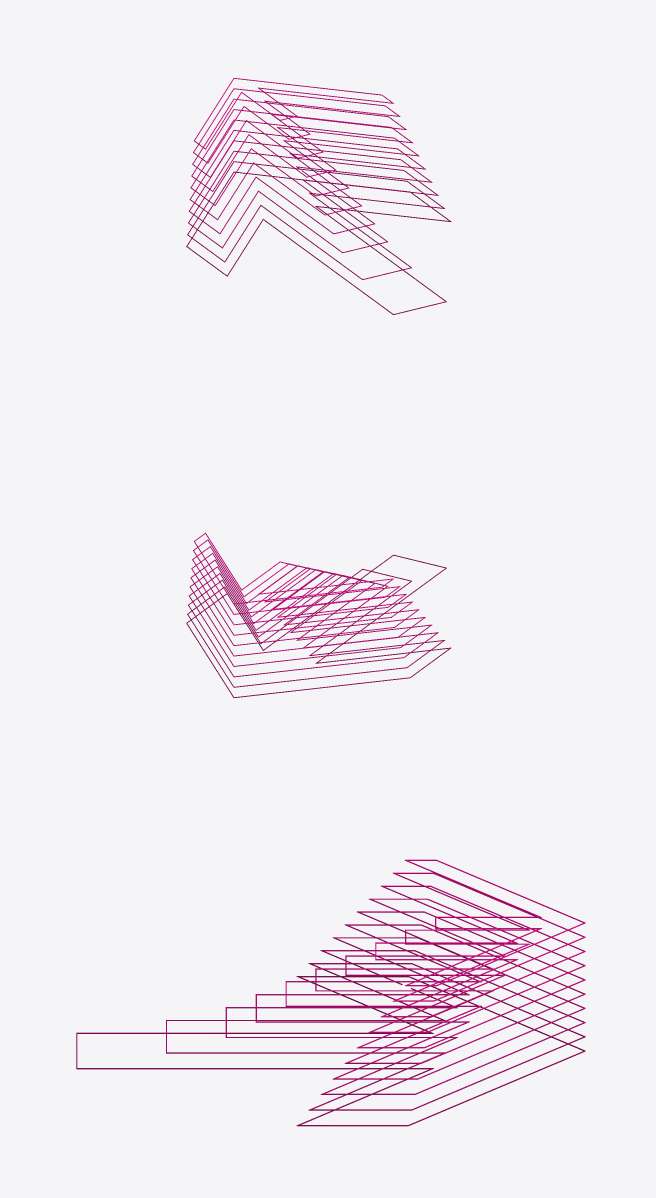
File: houshi03.glb
3 views of the same model, one above another, from view 1: azimuth 30°, elevation 25°; view 2: azimuth 150°, elevation 25°; view 3: azimuth 270°, elevation 25° (orthographic). The views are drawn at different scales.
Parts seen in each view (by area): view 1: スイープ.10, スイープ.9, スイープ.8, スイープ.7, スイープ.6, スイープ.5, スイープ.4, スイープ.3, スイープ.2, スイープ; view 2: スイープ.10, スイープ.9, スイープ.7, スイープ.8, スイープ.6, スイープ.5, スイープ.4, スイープ.2, スイープ, スイープ.3; view 3: スイープ.10, スイープ.9, スイープ.7, スイープ.8, スイープ.6, スイープ.5, スイープ.4, スイープ.3, スイープ.2, スイープ, スイープ 1, スイープ 4 (+2 smaller).
Boxes of the visible parts, x1,y1,x2,y2 form: スイープ.10: [186, 171, 451, 314]; スイープ.9: [187, 161, 444, 279]; スイープ.8: [188, 150, 438, 253]; スイープ.7: [188, 140, 432, 234]; スイープ.6: [189, 130, 425, 220]; スイープ.5: [190, 119, 419, 205]; スイープ.4: [191, 109, 412, 191]; スイープ.3: [192, 98, 406, 177]; スイープ.2: [193, 88, 400, 163]; スイープ: [194, 78, 393, 149]; スイープ.10: [186, 554, 451, 697]; スイープ.9: [187, 568, 444, 687]; スイープ.7: [189, 573, 431, 666]; スイープ.8: [188, 575, 438, 677]; スイープ.6: [189, 566, 425, 656]; スイープ.5: [190, 559, 419, 645]; スイープ.4: [191, 553, 412, 635]; スイープ.2: [193, 539, 400, 614]; スイープ: [194, 532, 393, 604]; スイープ.3: [192, 546, 406, 625]; スイープ.10: [76, 976, 585, 1126]; スイープ.9: [166, 963, 585, 1110]; スイープ.7: [255, 937, 585, 1079]; スイープ.8: [225, 950, 585, 1094]; スイープ.6: [285, 924, 585, 1063]; スイープ.5: [315, 911, 585, 1048]; スイープ.4: [345, 898, 585, 1032]; スイープ.3: [375, 885, 585, 1017]; スイープ.2: [392, 872, 585, 1001]; スイープ: [404, 859, 585, 986]; スイープ 1: [14, 1169, 641, 1169]; スイープ 4: [14, 1126, 641, 1126].
Bounding box in the file's own units: 0.02 × 0.00454 × 0.02.
